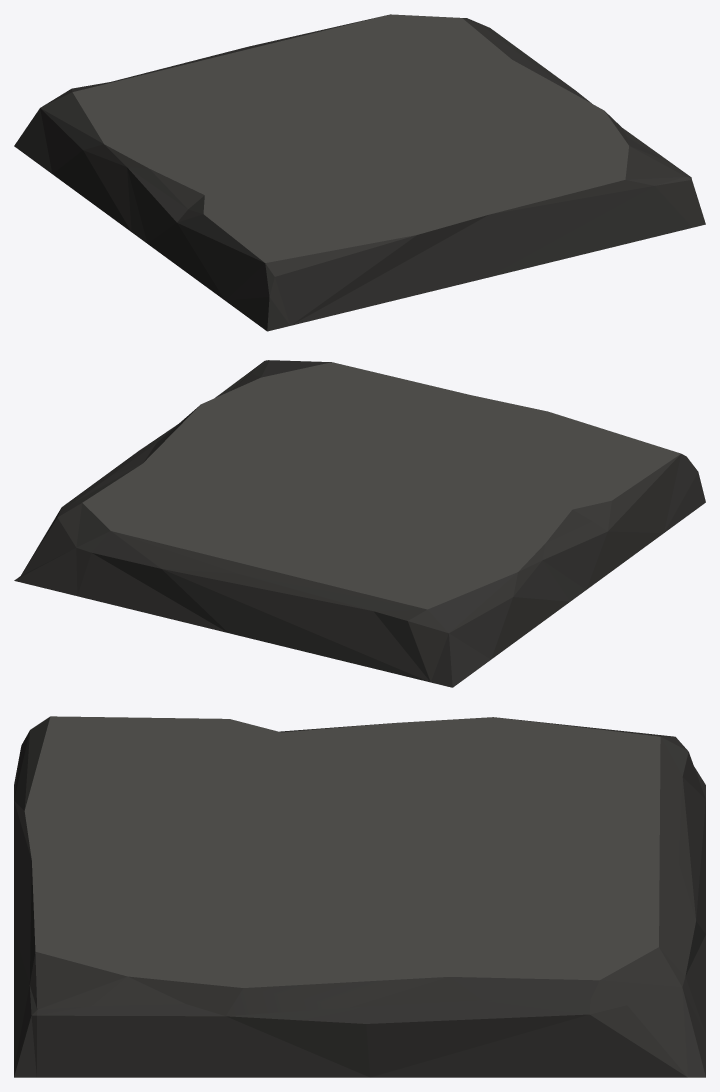
File: SM_Bld_Floor_Quarter_Tile_01.fbx
3 views of the same model, one above another, from view 1: azimuth 30°, elevation 25°; view 2: azimuth 150°, elevation 25°; view 3: azimuth 270°, elevation 25° (orthographic). The views are drawn at different scales.
Visible parts, largest first — view 1: SM_Bld_Floor_Quarter_Tile_01; view 2: SM_Bld_Floor_Quarter_Tile_01; view 3: SM_Bld_Floor_Quarter_Tile_01.
Part boxes in pixels (box(x1,y1,x2,y2)): SM_Bld_Floor_Quarter_Tile_01: box(14, 14, 705, 331); SM_Bld_Floor_Quarter_Tile_01: box(14, 360, 705, 687); SM_Bld_Floor_Quarter_Tile_01: box(14, 716, 705, 1077).
Size of the model in its own units: 125 by 15.48 by 125.
Materials: 1 (1 with a texture image).
